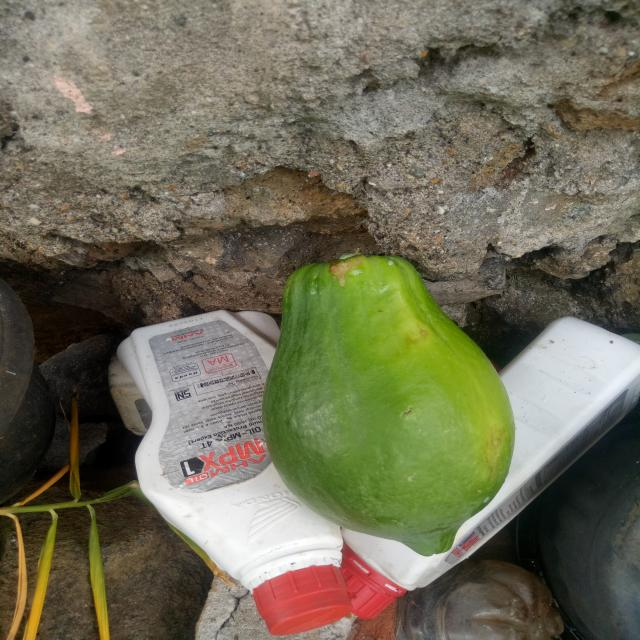Pepaya unrippen: (258, 249, 523, 557)
